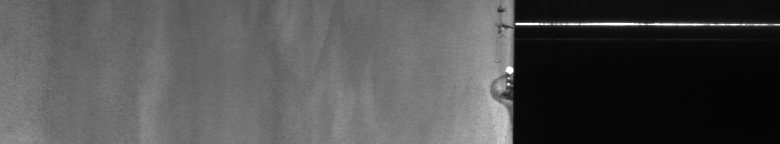hb: (484, 4, 500, 111)
